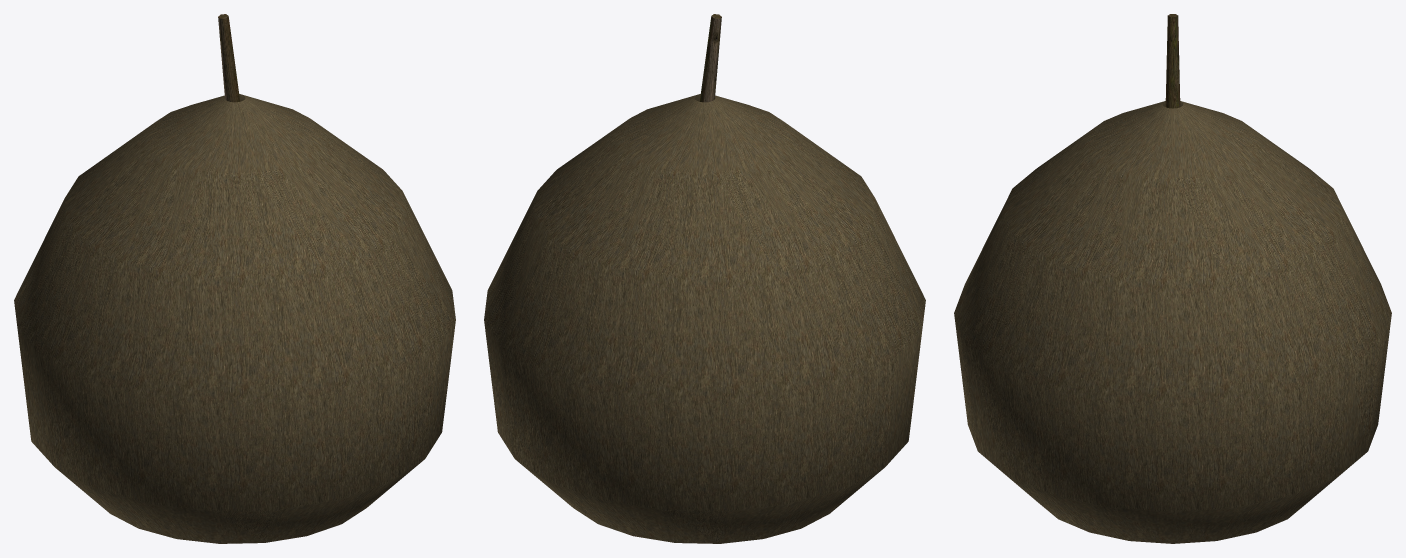
Rendered from haystack_1.glb.
The picture shows the model from 3 angles, left to right: view 1: azimuth 30°, elevation 25°; view 2: azimuth 150°, elevation 25°; view 3: azimuth 270°, elevation 25°; orthographic projection.
Visible parts, largest first — view 1: haystack_1; view 2: haystack_1; view 3: haystack_1.
Boxes of the visible parts, <box> form: haystack_1: <box>14,14,455,543</box>; haystack_1: <box>484,14,925,543</box>; haystack_1: <box>954,14,1391,543</box>.
Size of the model in its own units: 3.34 by 3.9 by 3.34.
Materials: 2 (2 with a texture image).
